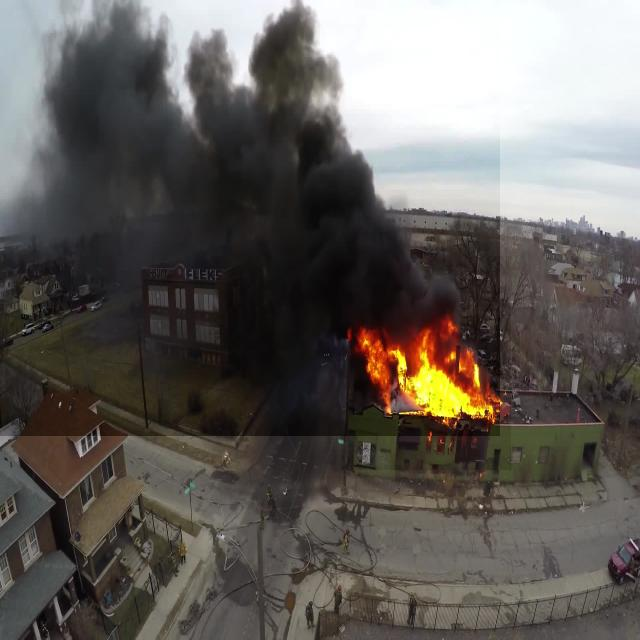Fire: (342, 299, 512, 470)
Smoke: (0, 0, 500, 436)
